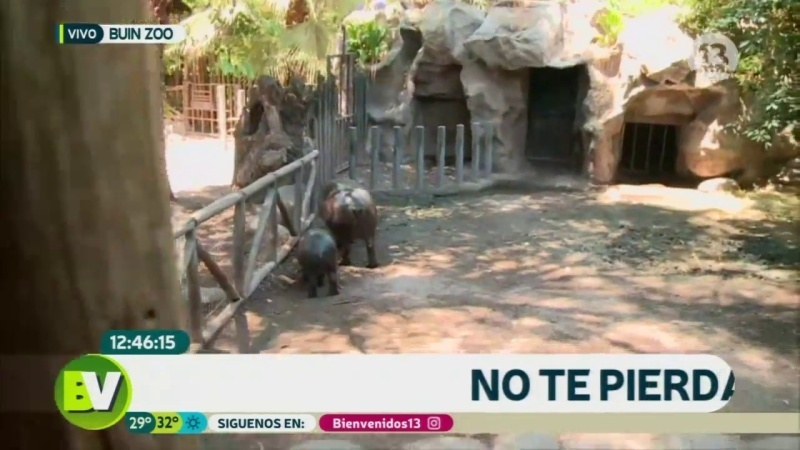hipopotamo: (320, 174, 391, 279), (282, 221, 350, 309)
